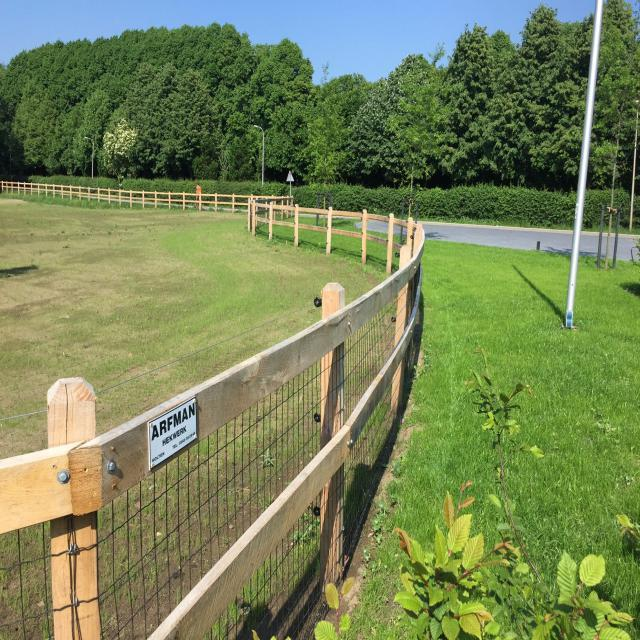fence line: (78, 378, 409, 640), (254, 205, 438, 519), (1, 173, 285, 212)
